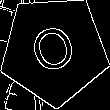O_S: (26, 19, 82, 82)
